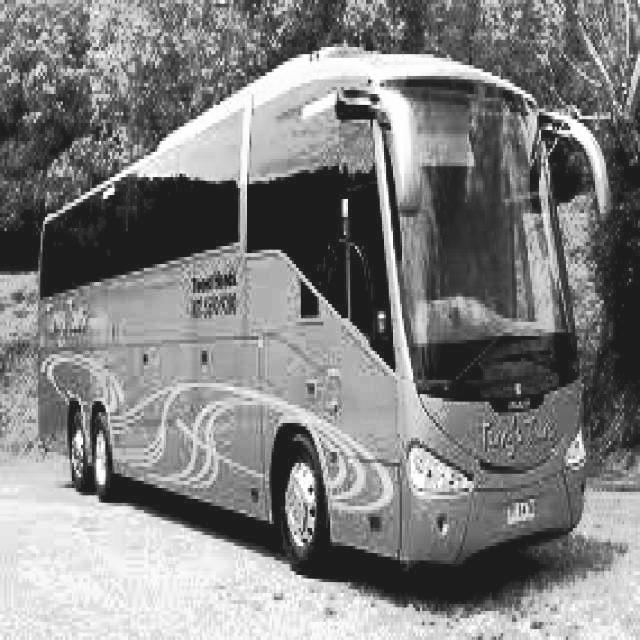Bus: (30, 43, 618, 608)
